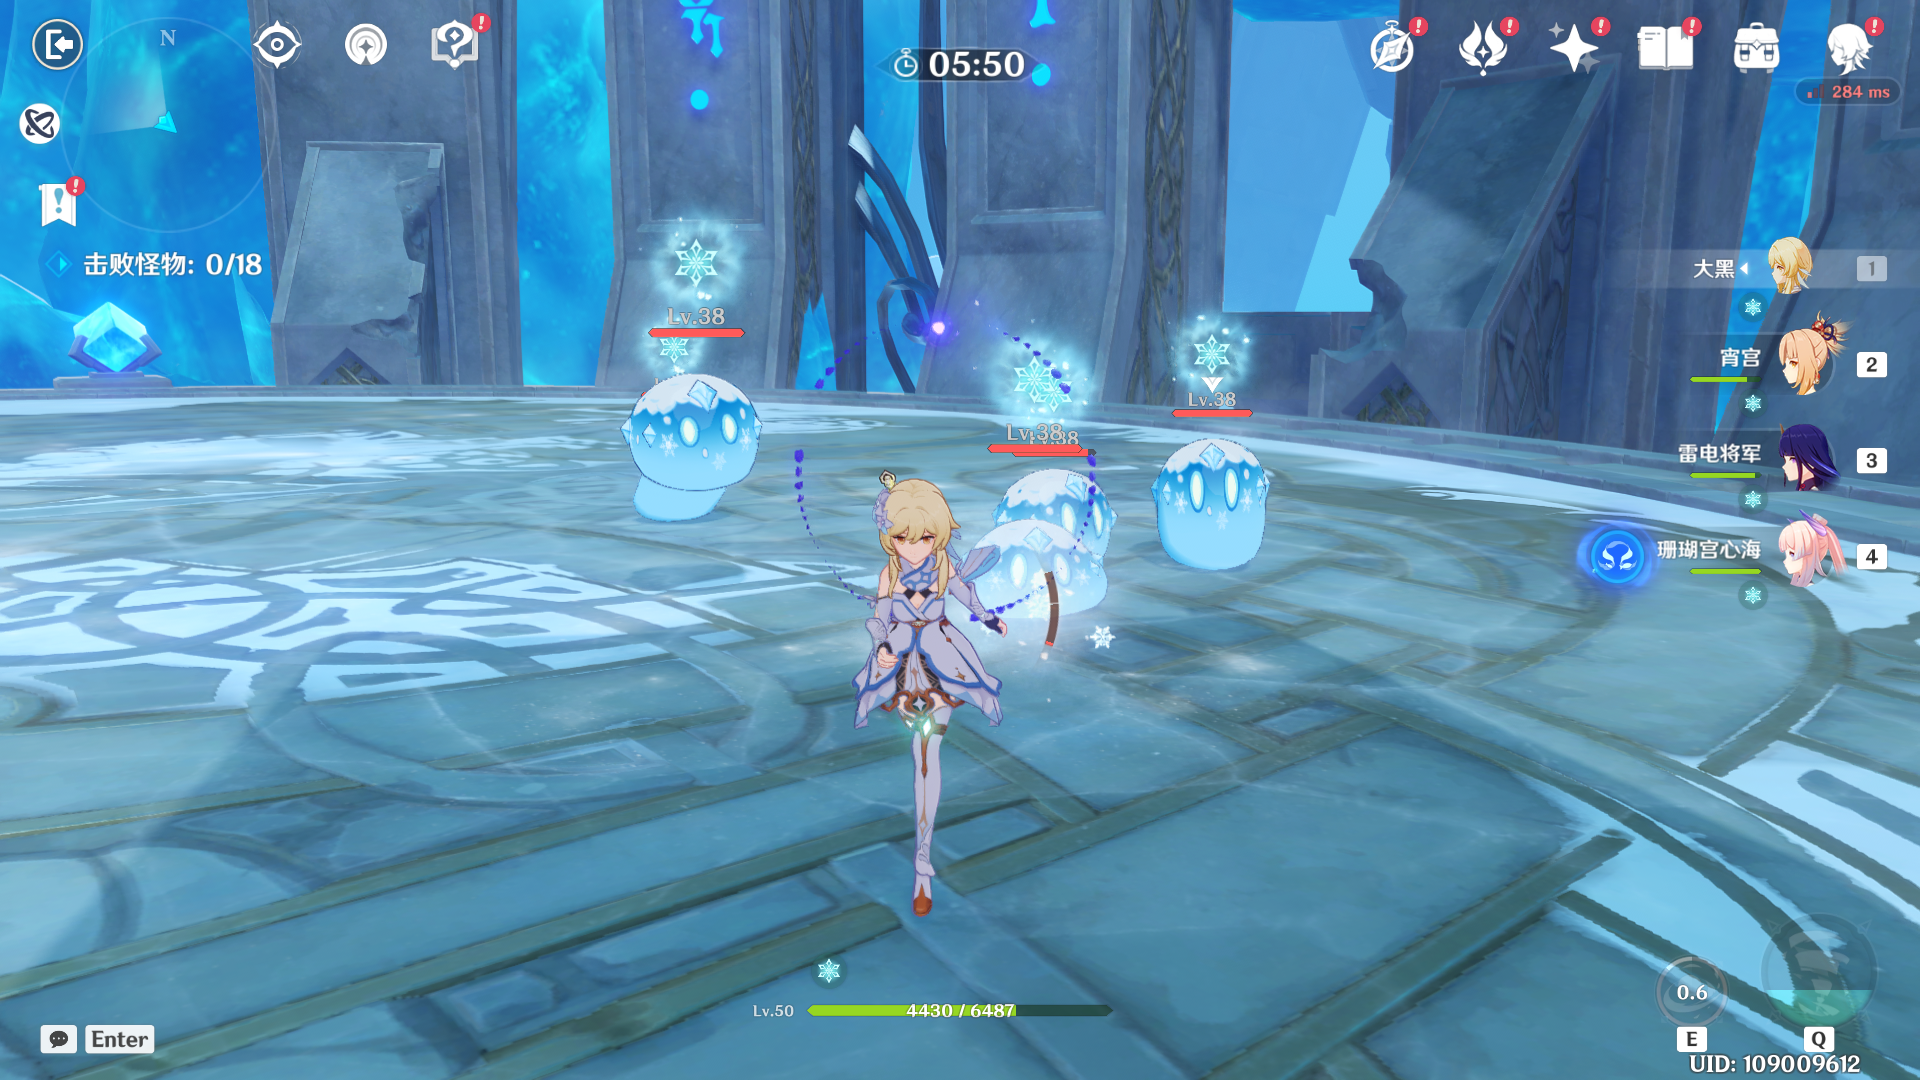character: (798, 456, 1058, 949)
slime: (1126, 414, 1291, 592), (605, 356, 781, 500), (948, 520, 1116, 630), (975, 455, 1120, 571)
